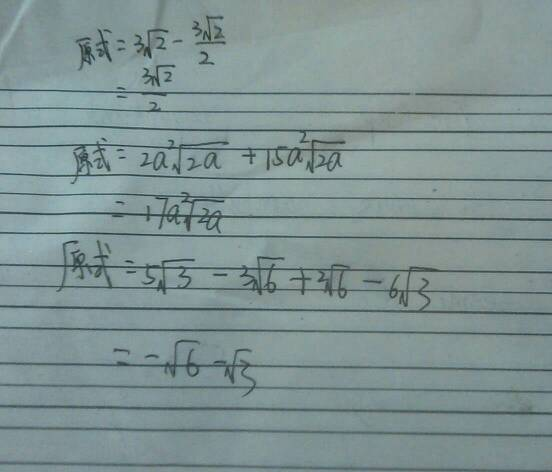division: (192, 36, 234, 48), (140, 86, 167, 103)
sqrt: (171, 138, 232, 174), (397, 261, 437, 315), (183, 196, 235, 234), (157, 256, 199, 297), (308, 135, 347, 179), (225, 346, 260, 392), (165, 335, 197, 381), (323, 258, 350, 305), (252, 250, 277, 297), (142, 22, 170, 61), (201, 10, 229, 43), (149, 61, 180, 89)
square: (160, 132, 181, 151), (294, 124, 308, 150), (179, 189, 189, 205)
